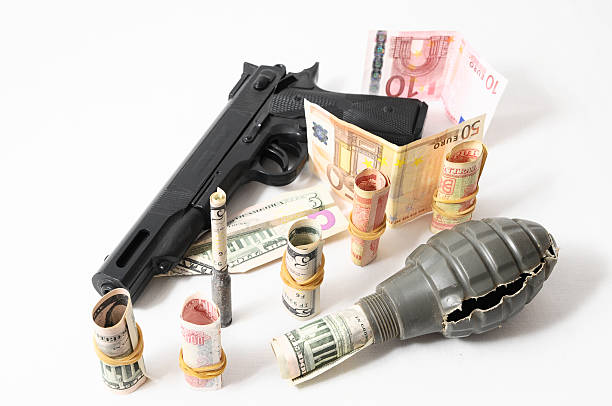e1: (356, 215, 568, 345)
